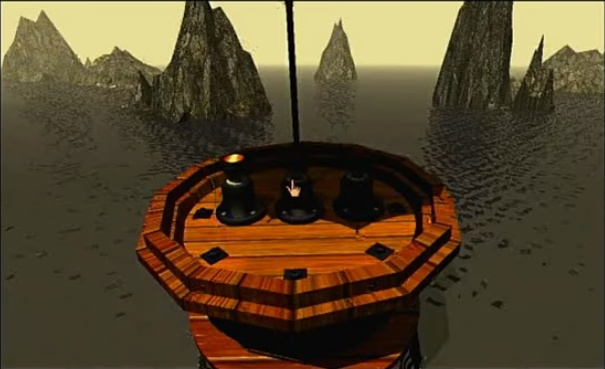Pointer: (283, 176, 305, 198)
